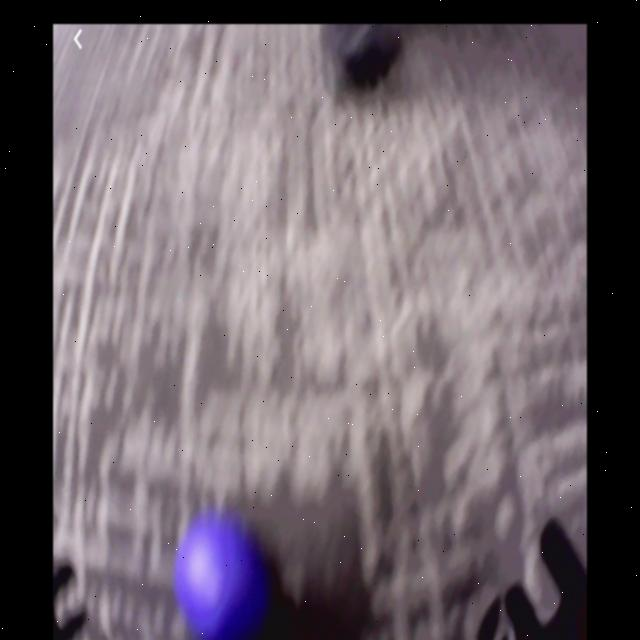ball: (180, 519, 264, 639)
